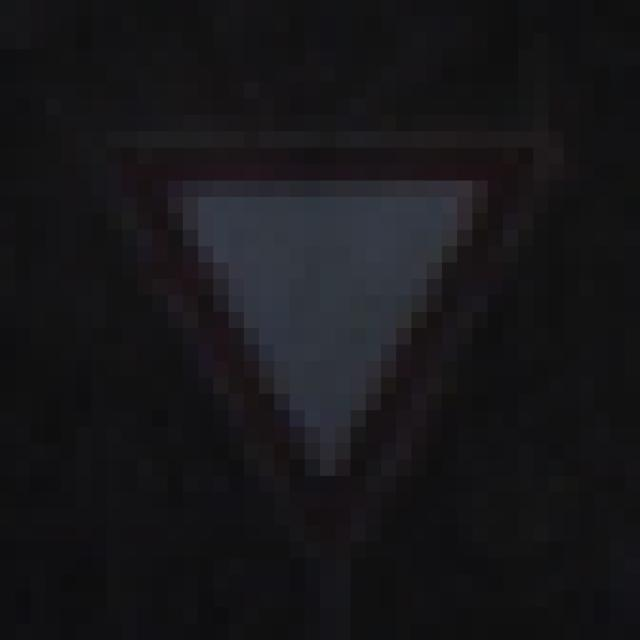Give Way: (77, 83, 565, 559)
